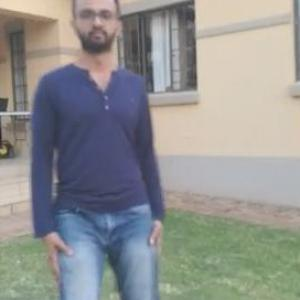follow: (79, 18, 182, 299)
